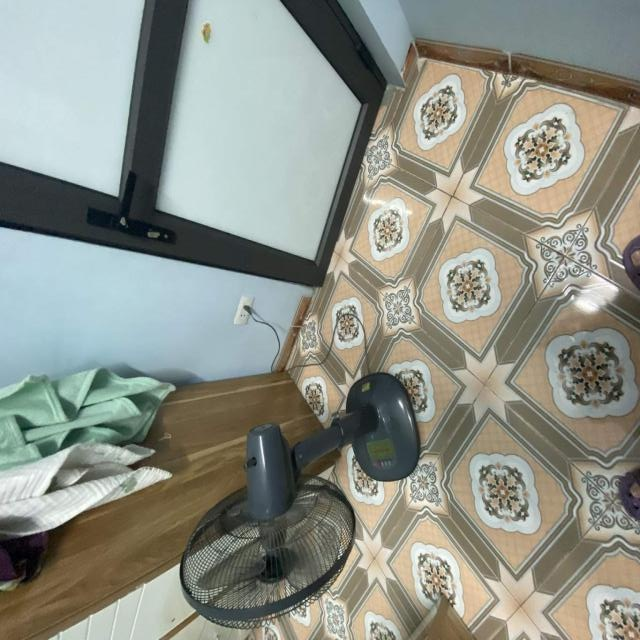outlet: (233, 295, 255, 325)
